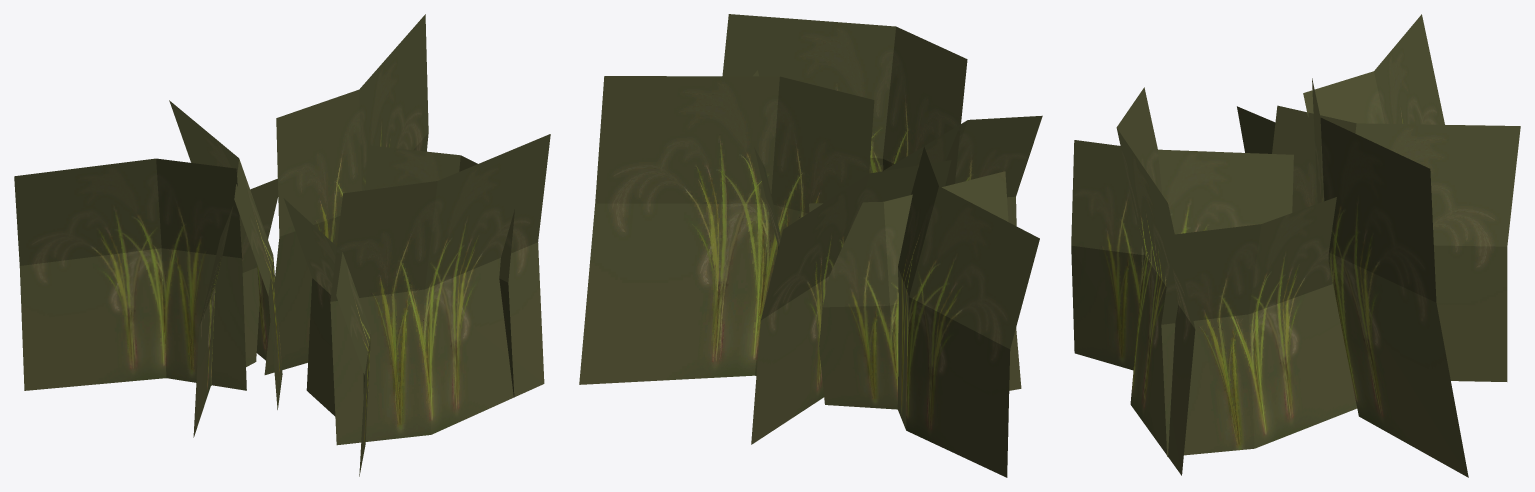
Rendered from bg_anh_foliage_a_crops07_sm_ksy.FBX.
3 views of the same model, side by side, from view 1: azimuth 30°, elevation 25°; view 2: azimuth 150°, elevation 25°; view 3: azimuth 270°, elevation 25° (orthographic). The views are drawn at different scales.
Visible parts, largest first — view 1: bg_anh_foliage_a_crops07_sm_ksy; view 2: bg_anh_foliage_a_crops07_sm_ksy; view 3: bg_anh_foliage_a_crops07_sm_ksy.
Boxes of the visible parts, x1,y1,x2,y2 form: bg_anh_foliage_a_crops07_sm_ksy: [14, 14, 550, 476]; bg_anh_foliage_a_crops07_sm_ksy: [579, 14, 1042, 477]; bg_anh_foliage_a_crops07_sm_ksy: [1071, 14, 1520, 477].
Bounding box in the file's own units: 153 × 99.22 × 132.
